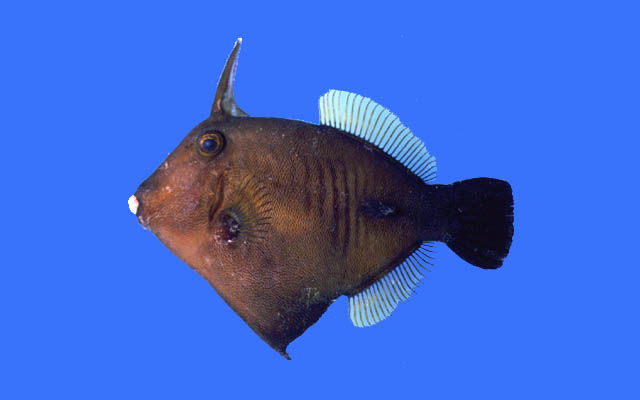fish: (128, 37, 517, 362)
